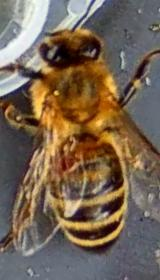varroa_mite: (51, 142, 84, 186)
